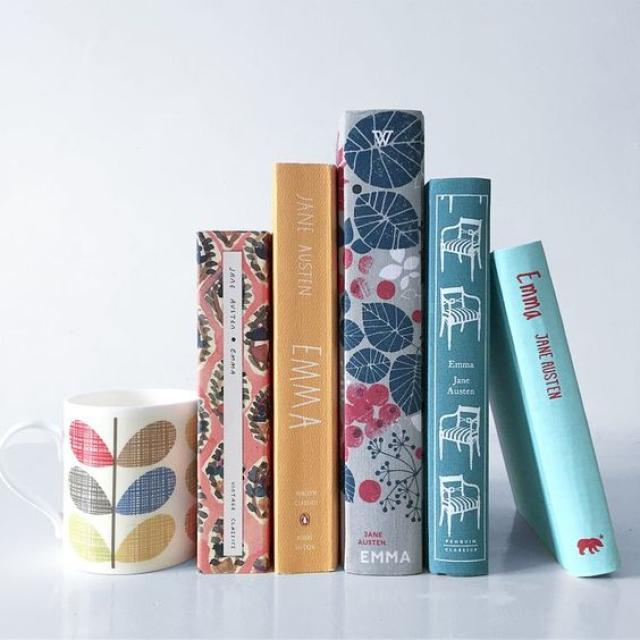book: (490, 241, 617, 576), (341, 108, 428, 575), (274, 161, 340, 575), (196, 230, 272, 575), (430, 180, 490, 578)
